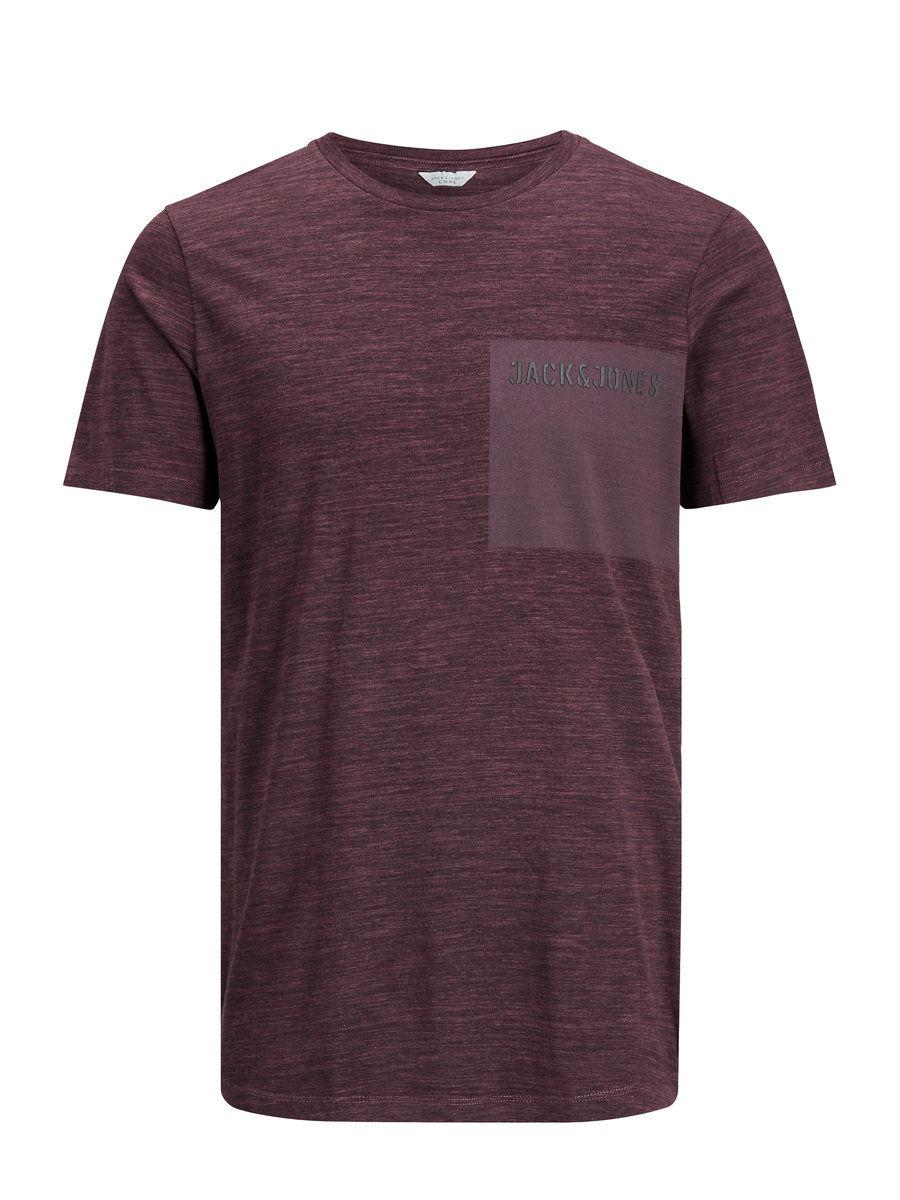teeshirt: (58, 114, 852, 1153)
